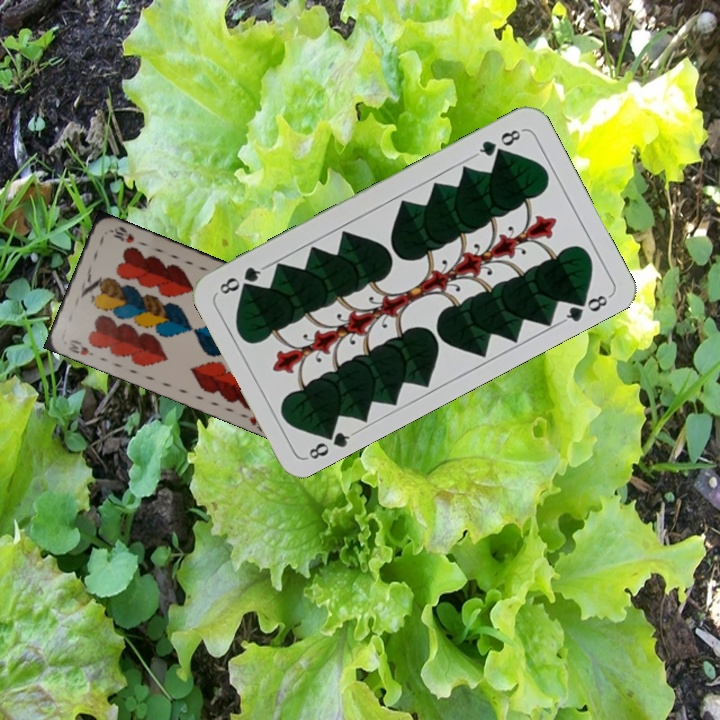G8: (304, 422, 358, 462), (471, 125, 526, 160)
H10: (64, 335, 97, 359)
